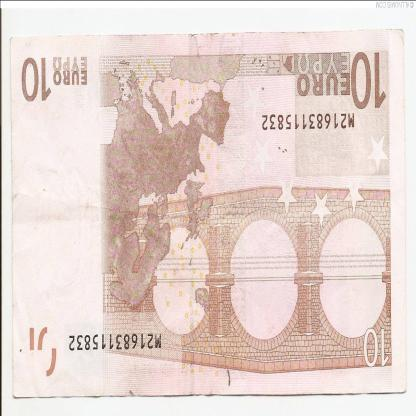euro_banknote: (11, 33, 407, 398)
